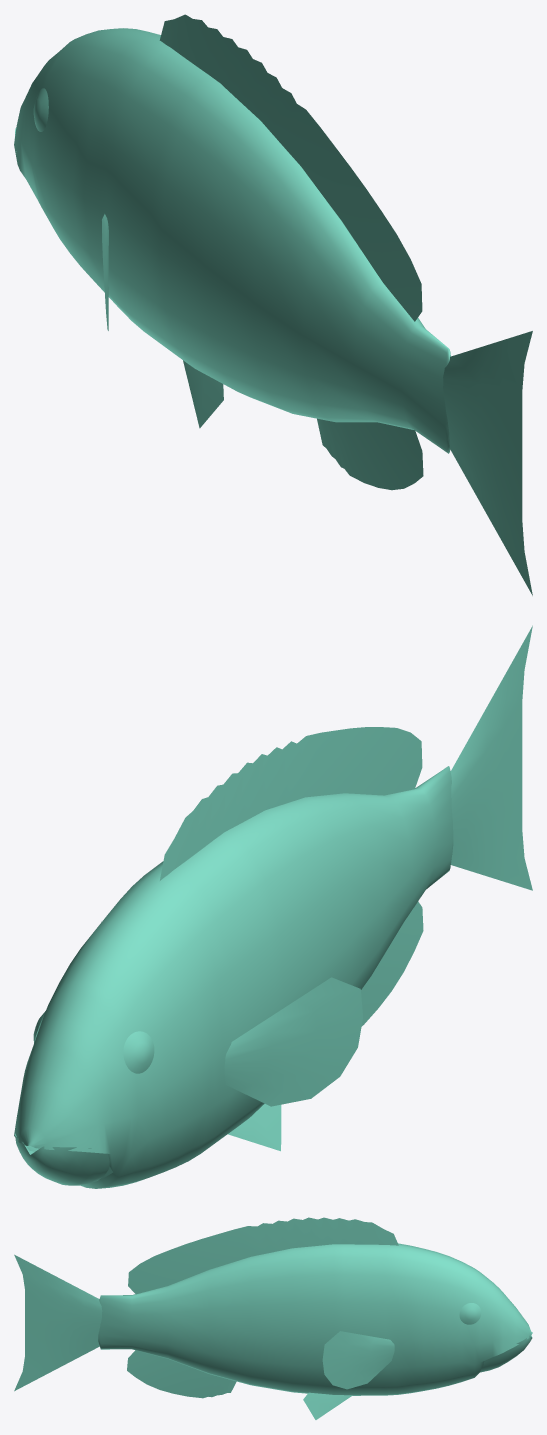
Rendered from parrotfish_game.glb.
3 views of the same model, one above another, from view 1: azimuth 30°, elevation 25°; view 2: azimuth 150°, elevation 25°; view 3: azimuth 270°, elevation 25° (orthographic). The views are drawn at different scales.
Parts seen in each view (by area): view 1: parrotfish_game; view 2: parrotfish_game; view 3: parrotfish_game.
Part boxes in pixels (<box>): parrotfish_game: <box>14,14,532,595</box>; parrotfish_game: <box>14,625,532,1188</box>; parrotfish_game: <box>14,1217,532,1419</box>.
Bounding box in the file's own units: 0.1477 × 0.204 × 0.4976.
